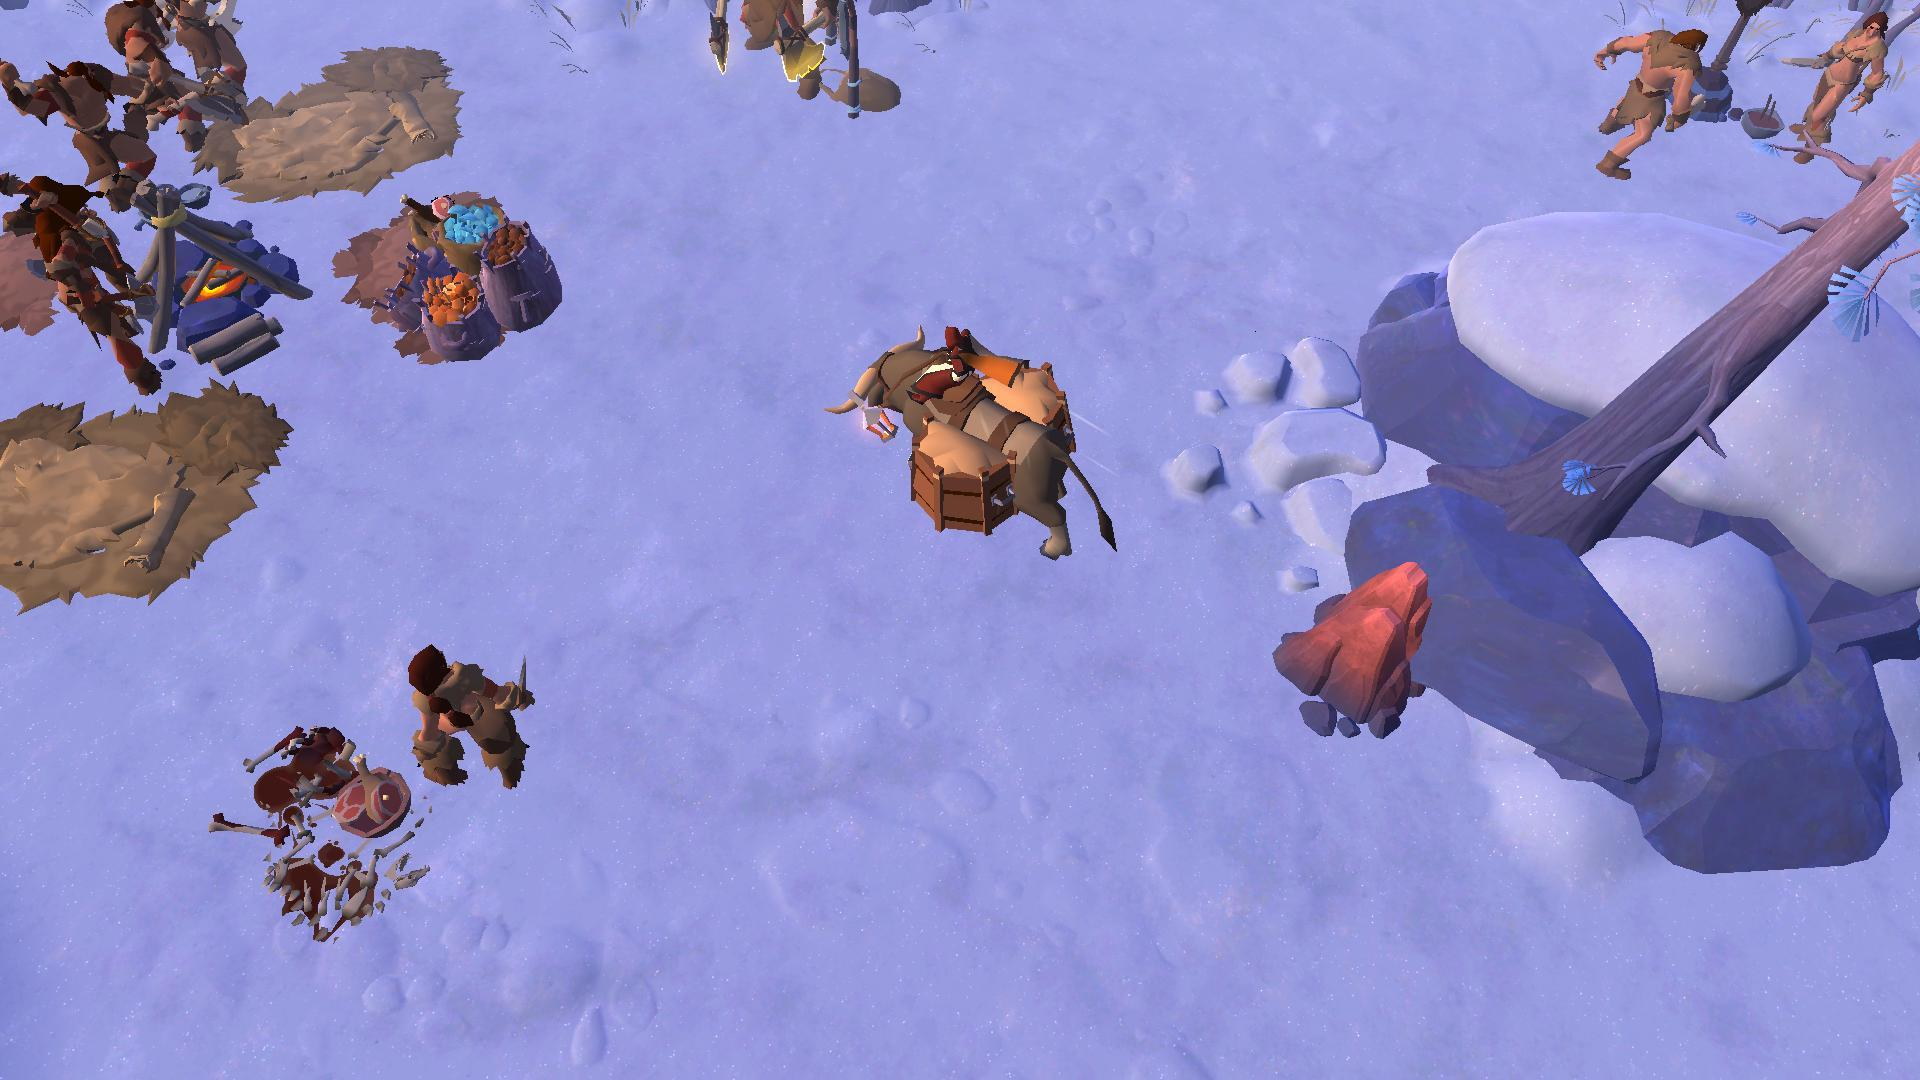enemy_factionKeeper: (388, 636, 556, 794), (3, 53, 170, 198), (1580, 25, 1717, 177), (1785, 12, 1903, 157), (104, 0, 218, 135)
rock_t5: (1273, 554, 1428, 741)
